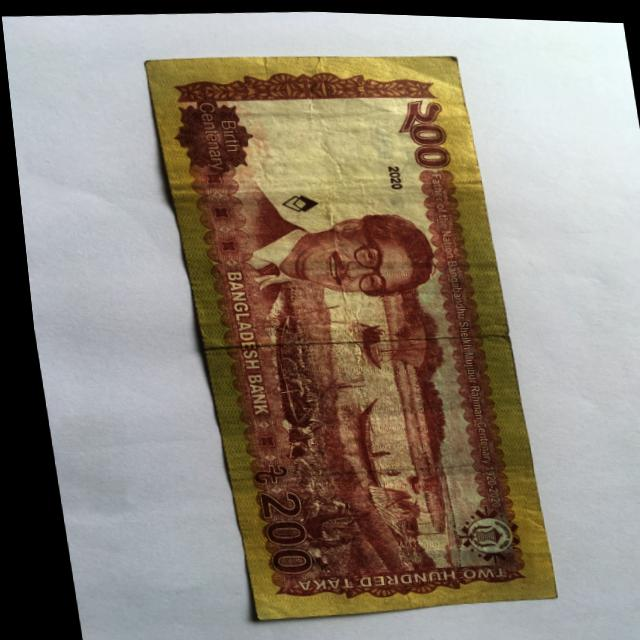Taka: (134, 31, 549, 621)
